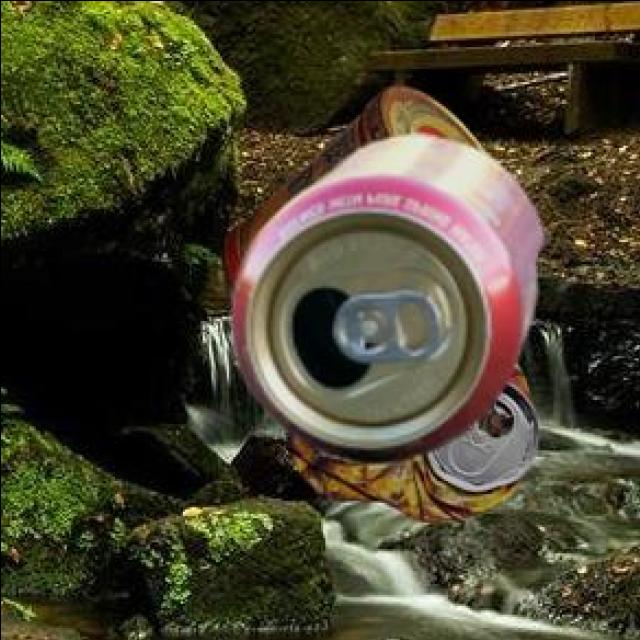logam: (236, 130, 545, 459), (225, 82, 490, 288), (288, 361, 540, 518)
